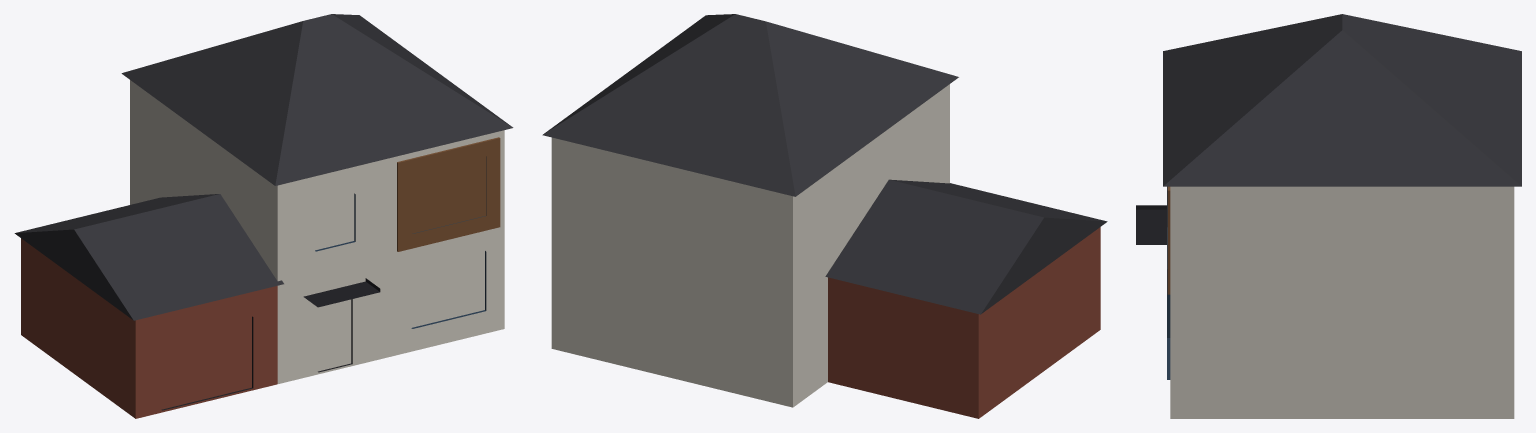
The model's file is building_london_s4_modern_detached.glb.
3 views of the same model, side by side, from view 1: azimuth 30°, elevation 25°; view 2: azimuth 150°, elevation 25°; view 3: azimuth 270°, elevation 25° (orthographic). The views are drawn at different scales.
Visible parts, largest first — view 1: building_london_s4_modern_detached; view 2: building_london_s4_modern_detached; view 3: building_london_s4_modern_detached.
Boxes of the visible parts, x1=… form: building_london_s4_modern_detached: x1=14, y1=14, x2=513, y2=418; building_london_s4_modern_detached: x1=542, y1=14, x2=1107, y2=418; building_london_s4_modern_detached: x1=1136, y1=14, x2=1521, y2=418.
Bounding box in the file's own units: 13.35 × 9.6 × 10.1.
Materials: 1 (1 with a texture image).
